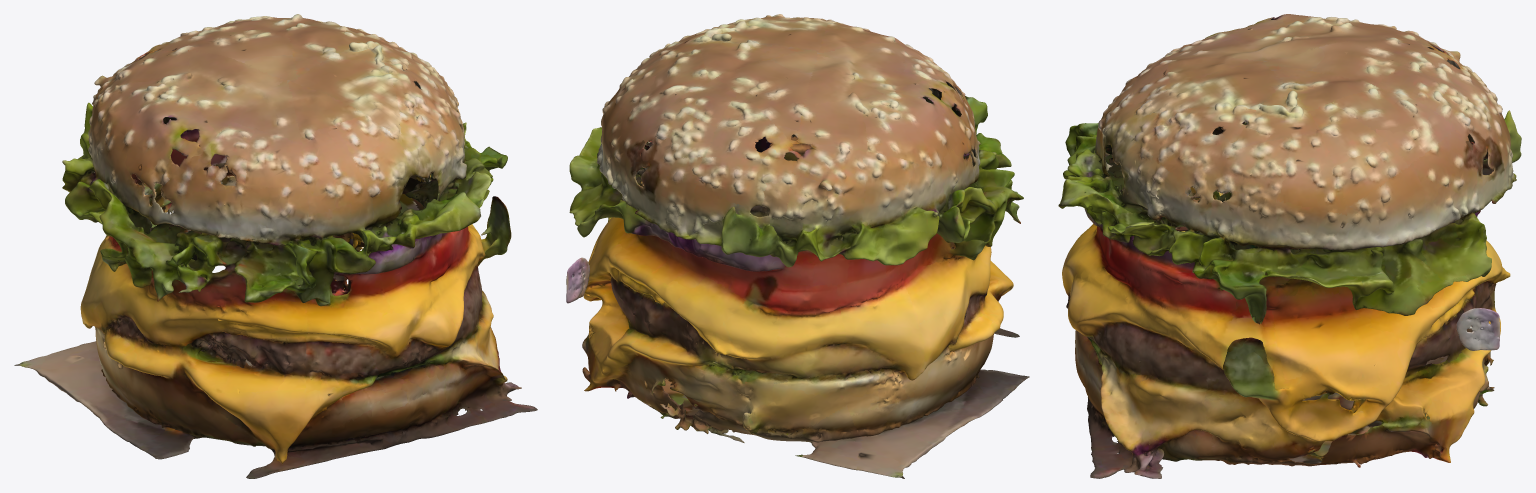
File: Cheese_Burger.glb
The picture shows the model from 3 angles, left to right: view 1: azimuth 30°, elevation 25°; view 2: azimuth 150°, elevation 25°; view 3: azimuth 270°, elevation 25°; orthographic projection. The views are drawn at different scales.
Bounding box in the file's own units: 1.99 × 1.57 × 1.93.
1 material, 1 textured.
